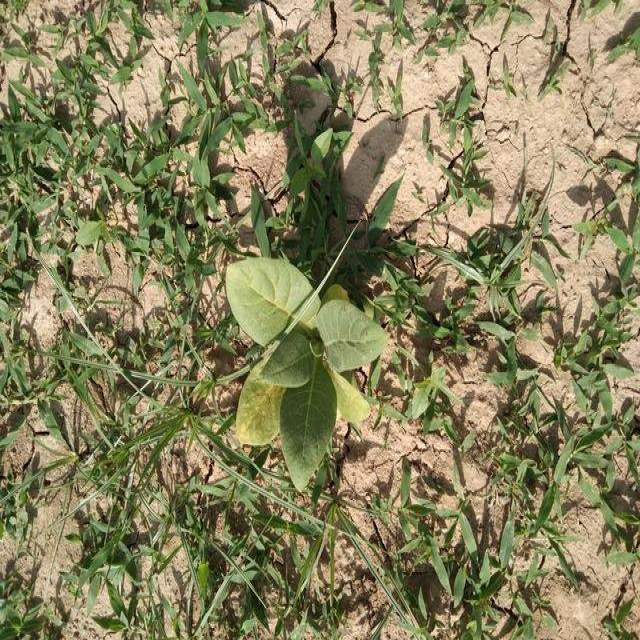crop: (218, 245, 388, 497)
